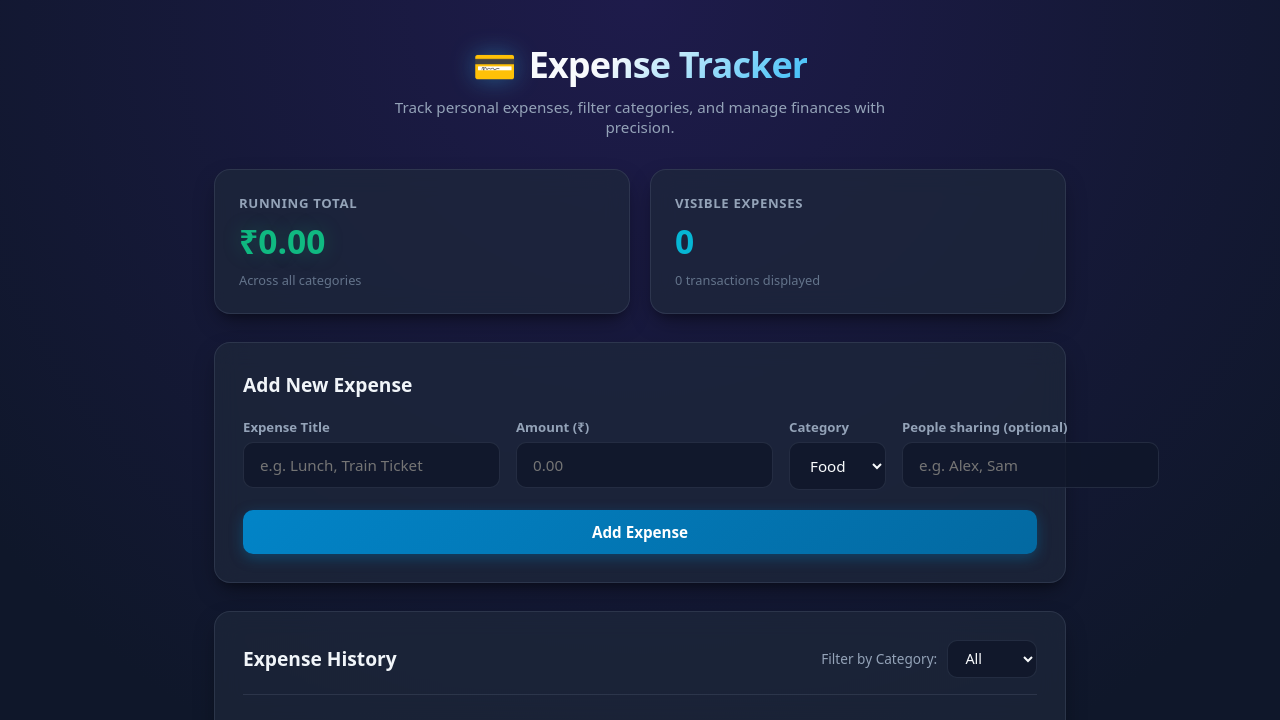
Test case: Expense Tracker: Component & Integration Suite › App Full Integration Flow: Add, Total, Filter, Delete › Shared expenses › shows equal shares and toggles each participant payment without changing the total
This screenshot has width=1280, height=720.
In the field labelled "Expense Title": (372, 465) [243, 442, 500, 488], type "Dinner"
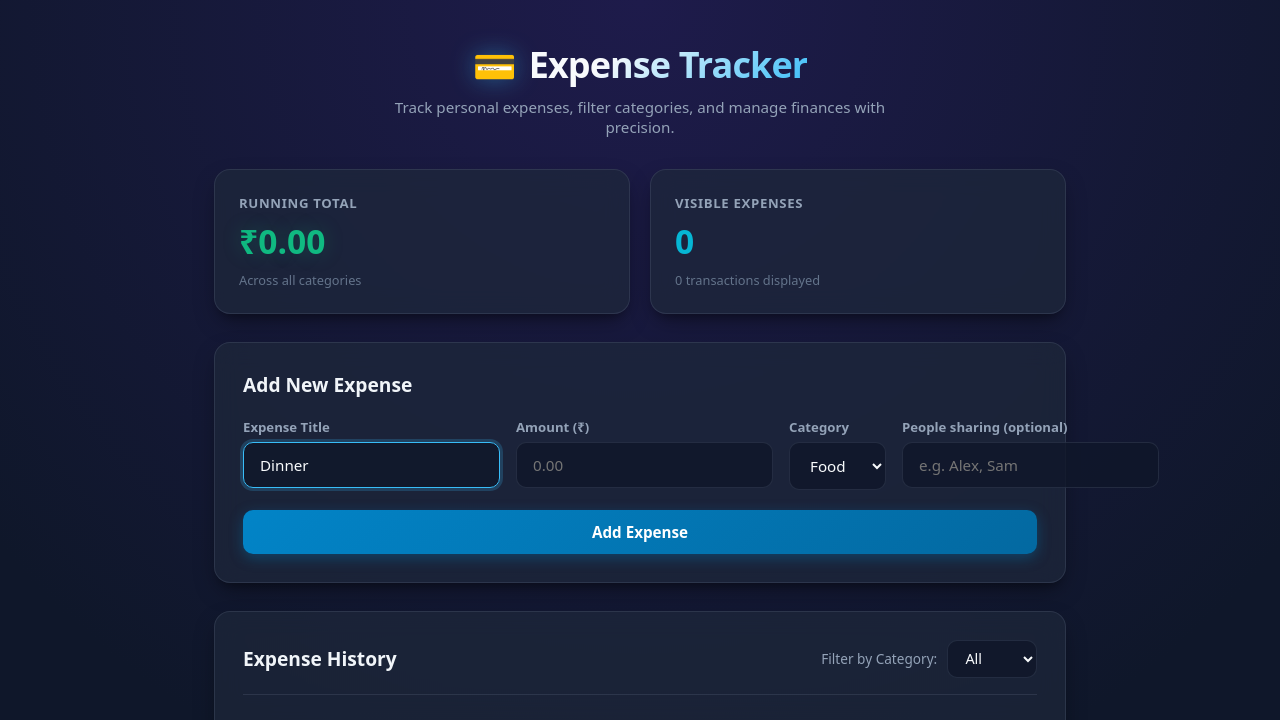
In the number field labelled "Amount (₹)": (644, 465) [516, 442, 773, 488], type "10"
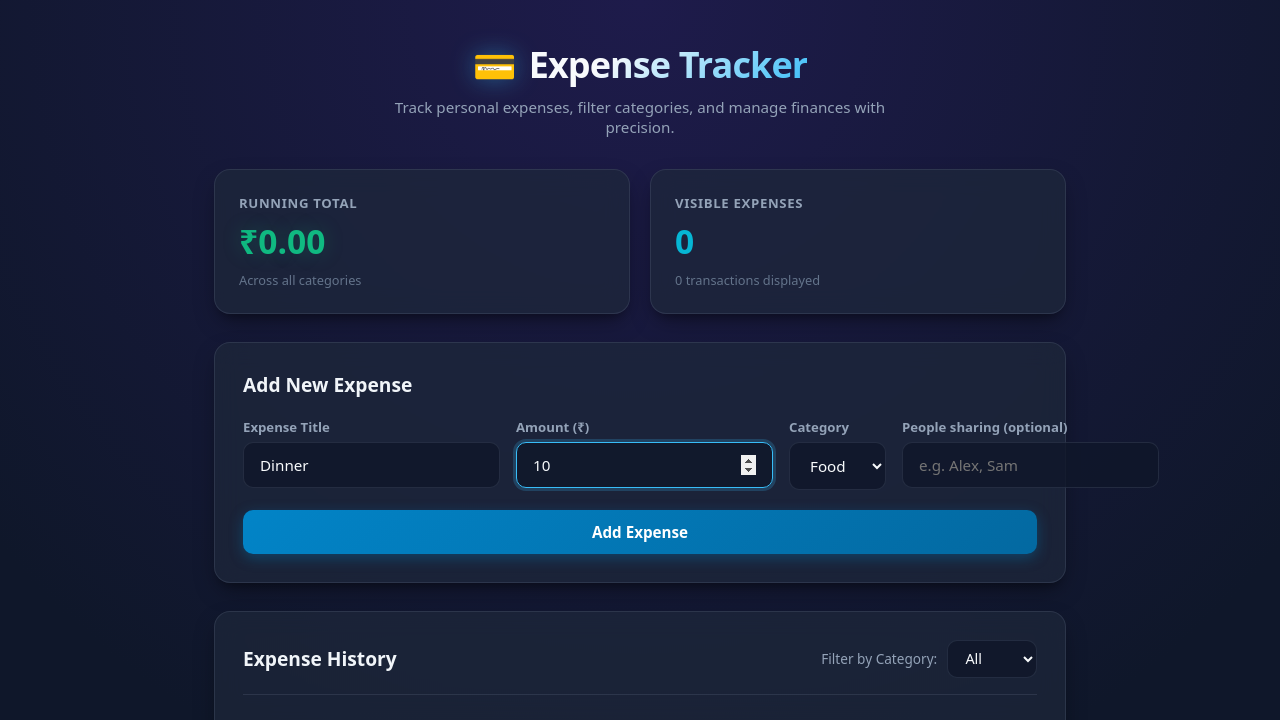
In the field labelled "People sharing (optional)": (1030, 465) [902, 442, 1159, 488], type "Alex, Sam, Taylor"
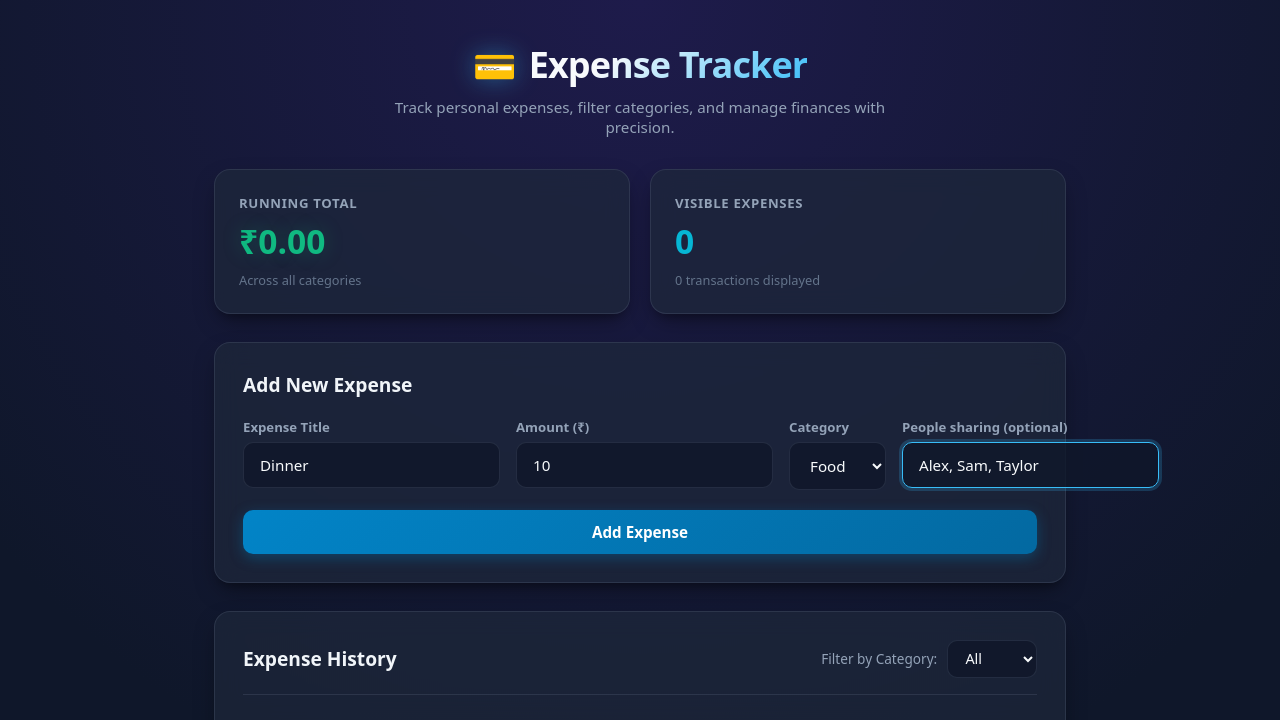
Click the button "Add Expense": (640, 532) [243, 510, 1037, 554]
(page scrolled)
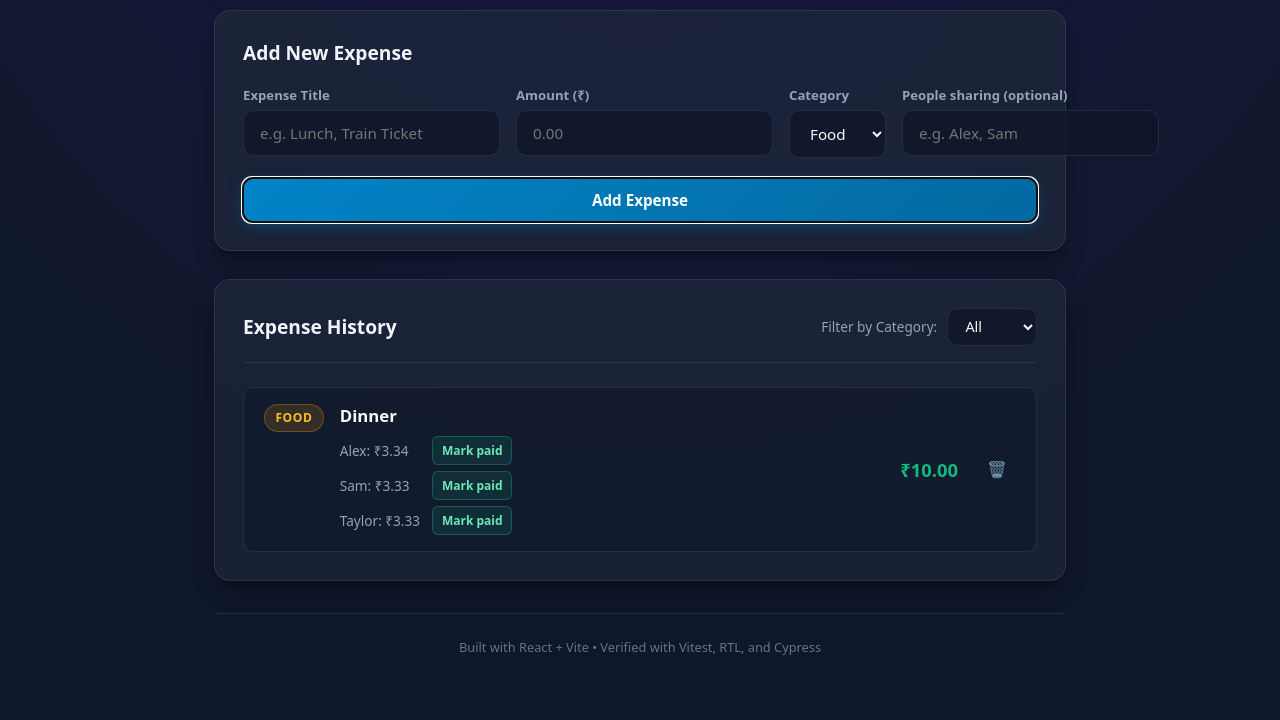
expect the text "Alex: ₹3.34" is shown: met, box [340, 441, 408, 460]
expect the text "Sam: ₹3.33" is shown: met, box [340, 476, 410, 495]
expect the text "Taylor: ₹3.33" is shown: met, box [340, 511, 420, 530]
Click the button with aria-label "Mark Alex paid": (472, 450) [432, 436, 512, 465]
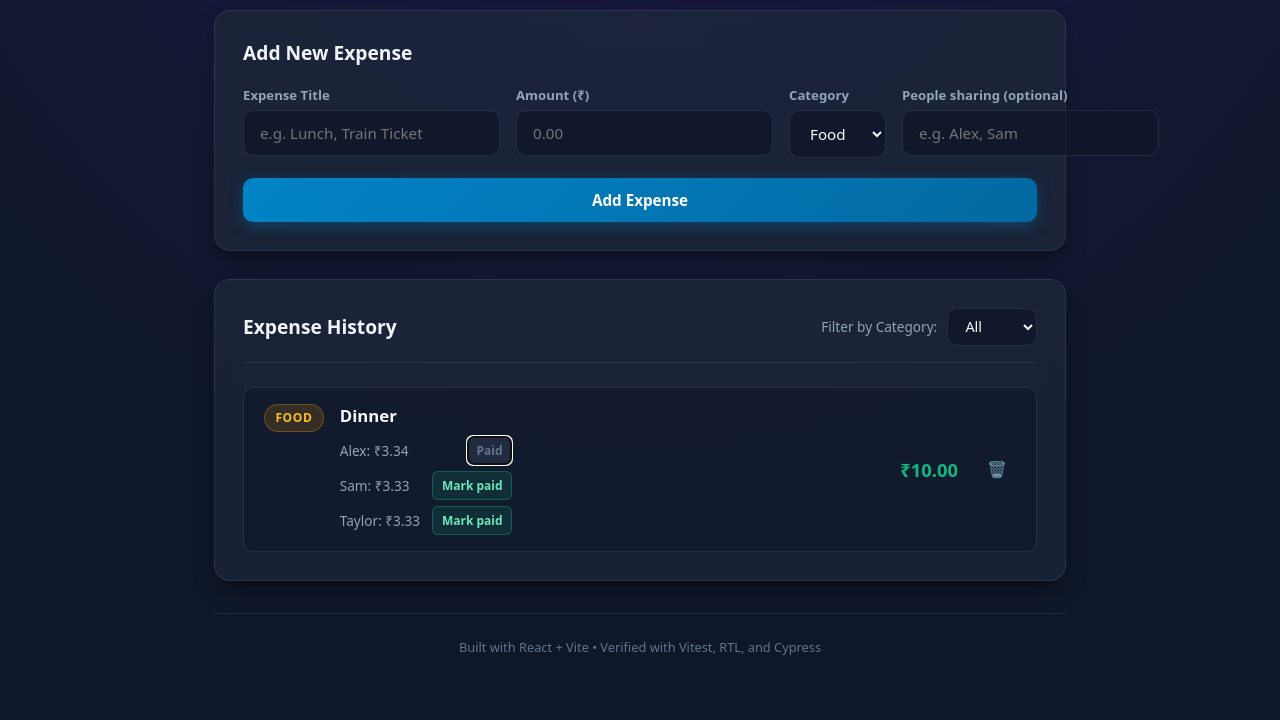
expect the button with aria-label "Mark Sam paid" reads "Mark paid": met, box [432, 471, 512, 500]
expect the button with aria-label "Mark Alex unpaid" reads "Paid": met
Click the button with aria-label "Mark Alex unpaid": (490, 450) [467, 436, 512, 465]
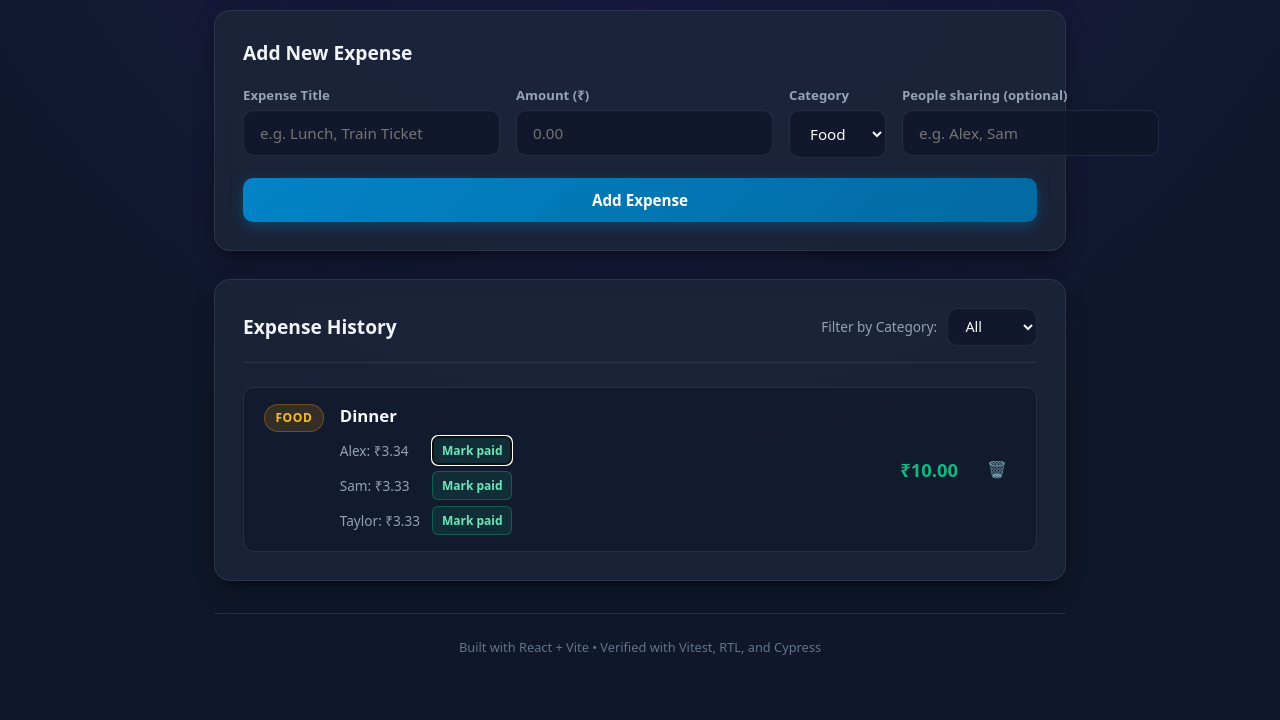
expect the button with aria-label "Mark Alex paid" reads "Mark paid": met, box [432, 436, 512, 465]
